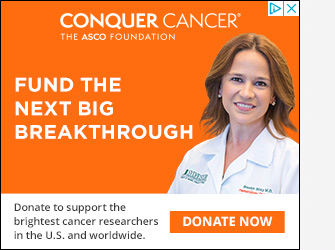fake_button: (166, 203, 289, 244)
